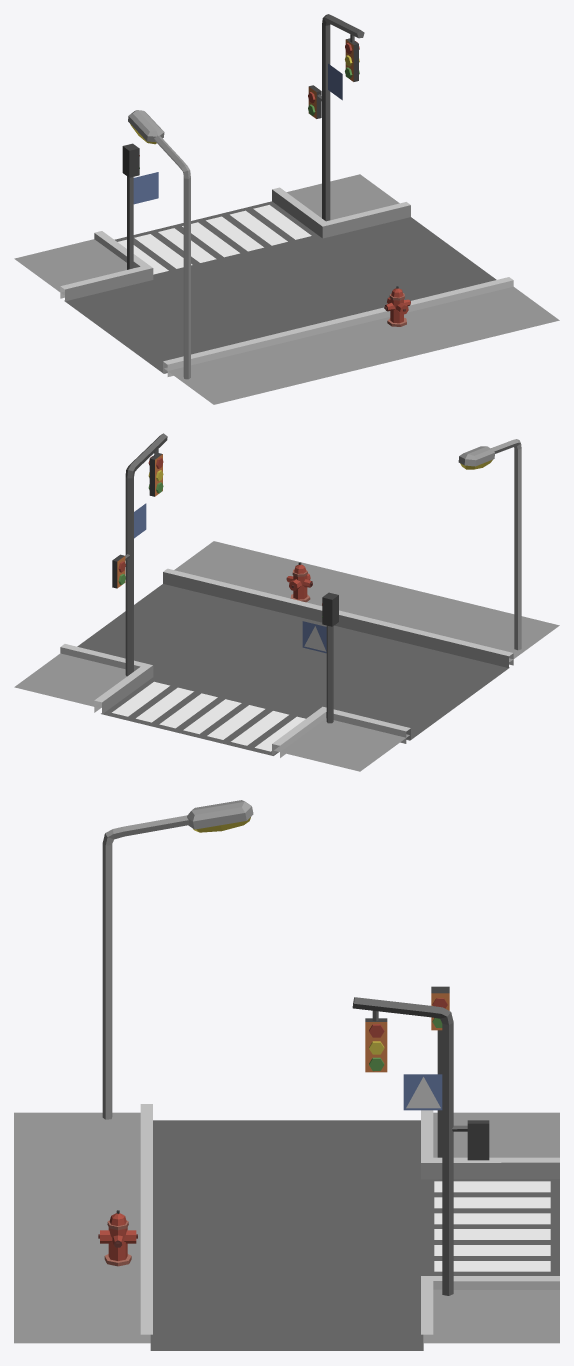
Rendered from road_tile_1x1_010.fbx.
The picture shows the model from 3 angles, top to bottom: view 1: azimuth 30°, elevation 25°; view 2: azimuth 150°, elevation 25°; view 3: azimuth 270°, elevation 25°; orthographic projection. The views are drawn at different scales.
Parts seen in each view (by area): view 1: road_tile_1x1_010; view 2: road_tile_1x1_010; view 3: road_tile_1x1_010.
Part boxes in pixels (x1,y1,x2,y2): road_tile_1x1_010: [14, 14, 559, 404]; road_tile_1x1_010: [14, 433, 559, 771]; road_tile_1x1_010: [14, 800, 559, 1350].
Bounding box in the file's own units: 802 × 525 × 800.
